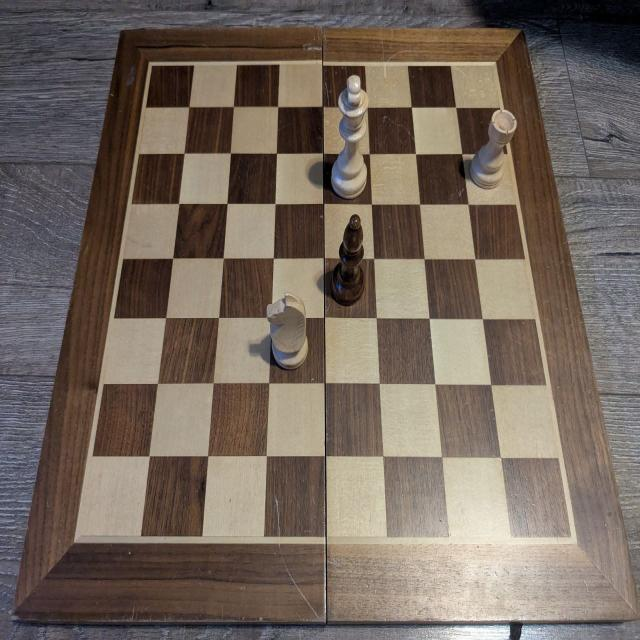black_bishop: (329, 212, 366, 308)
white_king: (329, 74, 369, 202)
white_knight: (264, 290, 310, 371)
white_rook: (470, 106, 518, 190)
